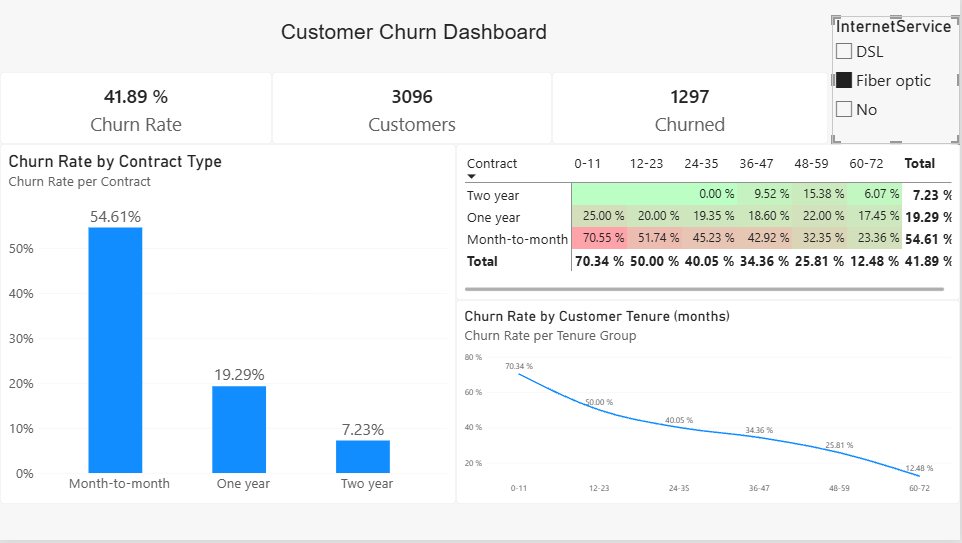

Layout of this report page (visuals, bound fields, positions):
{"tool":"powerbi","page":{"name":"Página 1","canvas":[1920,1080],"ordinal":0},"visuals":[{"type":"clusteredColumnChart","title":"Churn Rate by Contract Type","fields":{"Category":["customers.Contract"],"Y":["customers.Churn Rate"]},"box":[0,288,912,720],"z":0},{"type":"card","fields":{"Values":["customers.Customers"]},"box":[544,144,560,144],"z":1000},{"type":"card","fields":{"Values":["customers.Churned"]},"box":[1104,144,552,144],"z":2000},{"type":"slicer","fields":{"Values":["customers.InternetService"]},"box":[1664,32,256,256],"z":3000},{"type":"lineChart","title":"Churn Rate by Customer Tenure (months)","fields":{"Category":["customers.Tenure Group"],"Y":["customers.Churn Rate"]},"box":[912,600,1008,408],"z":4000},{"type":"pivotTable","fields":{"Columns":["customers.Tenure Group"],"Rows":["customers.Contract"],"Values":["customers.Churn Rate"]},"box":[912,288,1008,312],"z":5000},{"type":"textbox","box":[0,0,1656,144],"z":5002},{"type":"card","fields":{"Values":["customers.Churn Rate"]},"box":[0,144,544,144],"z":5003}]}

Visuals, with their boxes in screenshot pixels (x1, y1, x2, y2), scaled from the page's 1920x1080 canvas onto the 962x543 screenshot:
"Churn Rate by Contract Type" clusteredColumnChart: [0, 145, 457, 507]
card - customers.Customers: [273, 72, 553, 145]
card - customers.Churned: [553, 72, 830, 145]
slicer - customers.InternetService: [834, 16, 961, 145]
"Churn Rate by Customer Tenure (months)" lineChart: [457, 302, 961, 507]
pivotTable - customers.Tenure Group x customers.Contract: [457, 145, 961, 302]
textbox: [0, 0, 830, 72]
card - customers.Churn Rate: [0, 72, 273, 145]
